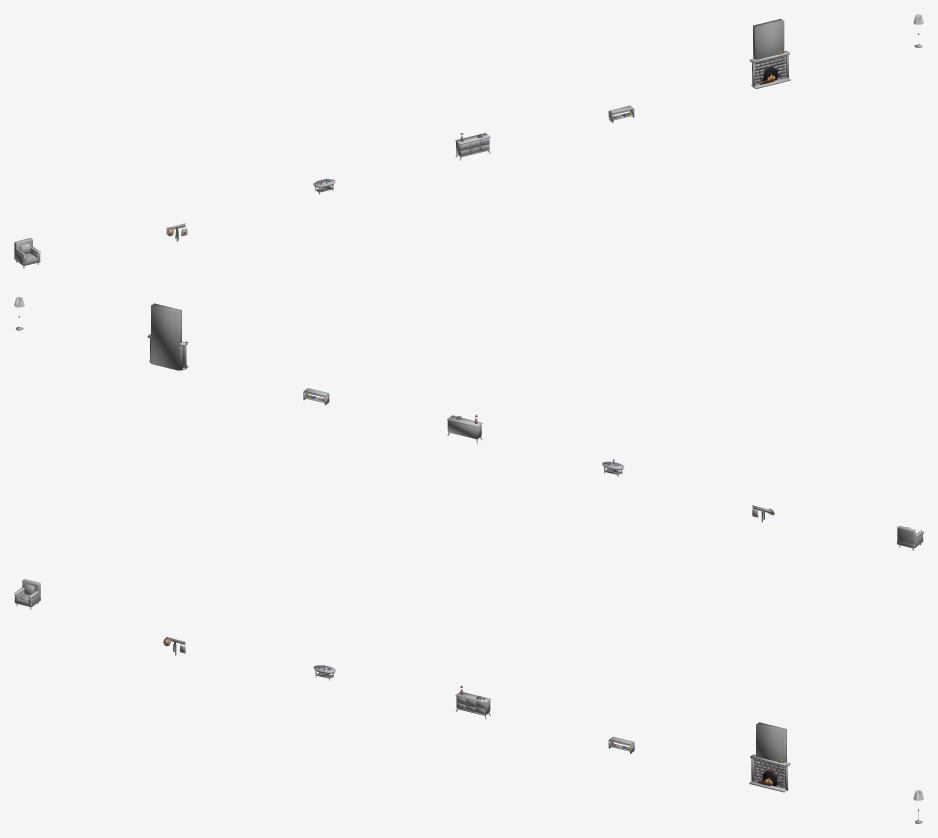
The model's file is bld_home_living_lite.glb.
3 views of the same model, one above another, from view 1: azimuth 30°, elevation 25°; view 2: azimuth 150°, elevation 25°; view 3: azimuth 330°, elevation 25° (orthographic).
Parts seen in each view (by area): view 1: INST_bld_home_living_lite_fireplace_s_stone, INST_bld_home_living_lite_console_s_wood; view 2: INST_bld_home_living_lite_fireplace_s_stone, INST_bld_home_living_lite_console_s_wood; view 3: INST_bld_home_living_lite_fireplace_s_stone, INST_bld_home_living_lite_console_s_wood.
Boxes of the visible parts, box(x1,y1,x2,y2) form: INST_bld_home_living_lite_fireplace_s_stone: box(751, 19, 790, 88); INST_bld_home_living_lite_console_s_wood: box(455, 133, 490, 160); INST_bld_home_living_lite_fireplace_s_stone: box(149, 303, 188, 370); INST_bld_home_living_lite_console_s_wood: box(447, 415, 482, 443); INST_bld_home_living_lite_fireplace_s_stone: box(749, 722, 788, 792); INST_bld_home_living_lite_console_s_wood: box(455, 692, 490, 719).
Size of the model in its own units: 48.73 by 3.69 by 0.9185.
